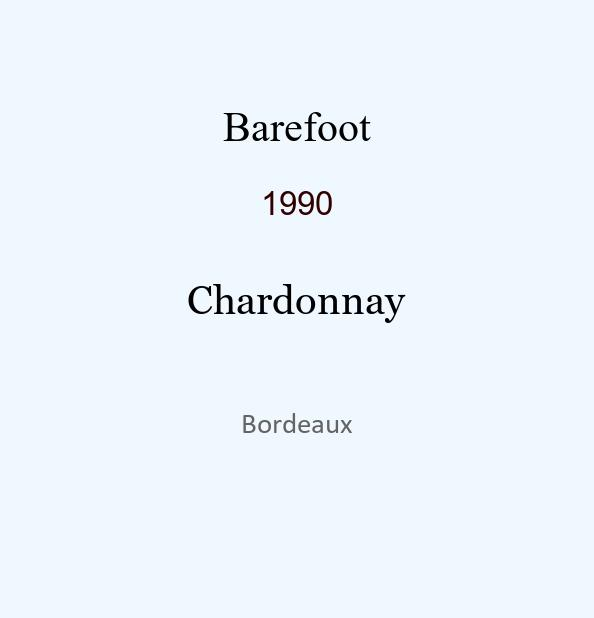brand: (223, 103, 371, 132)
region: (241, 411, 353, 431)
variety: (187, 277, 406, 316)
vintage: (261, 185, 333, 209)
